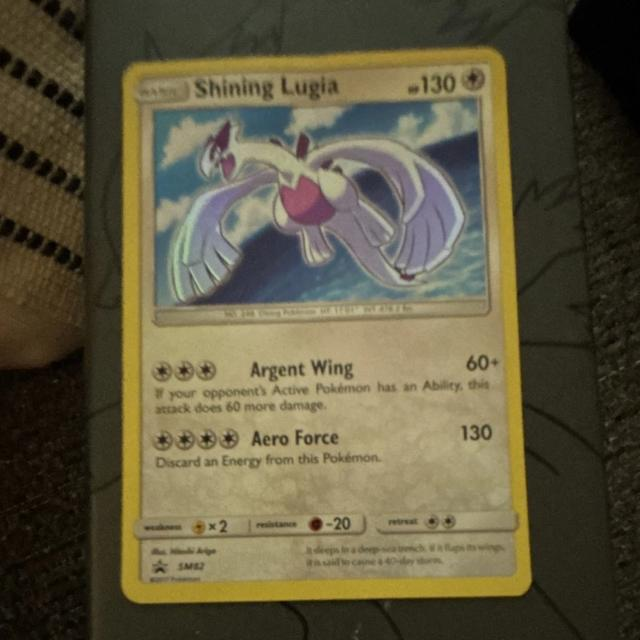Card: (116, 41, 537, 609)
Name: (189, 69, 347, 105)
